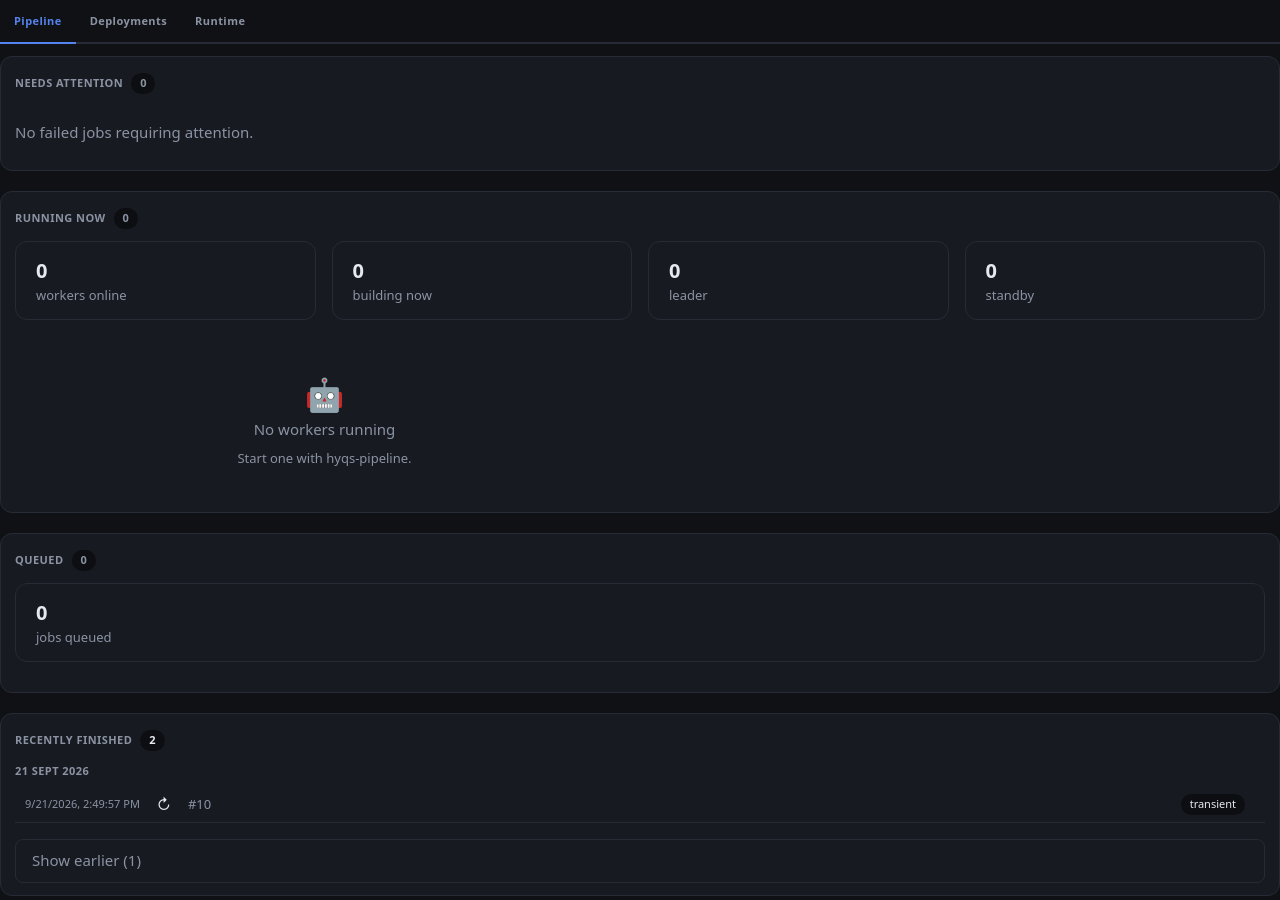
Scenario: AdminCommandCenter remediation feed coalescing + windowing › hides events older than 24h by default, revealing them via Show earlier
This screenshot has width=1280, height=900.
Expected: the text "#10" is shown, top-left (188, 794), bottom-right (211, 814)
Expected: the text "#11" is not shown
What coordinates should you click on to do the following:
click the button "Show earlier (1)"
I would click on:
 (86, 860)
Its box is top-left (15, 838), bottom-right (1265, 882).
(page scrolled)
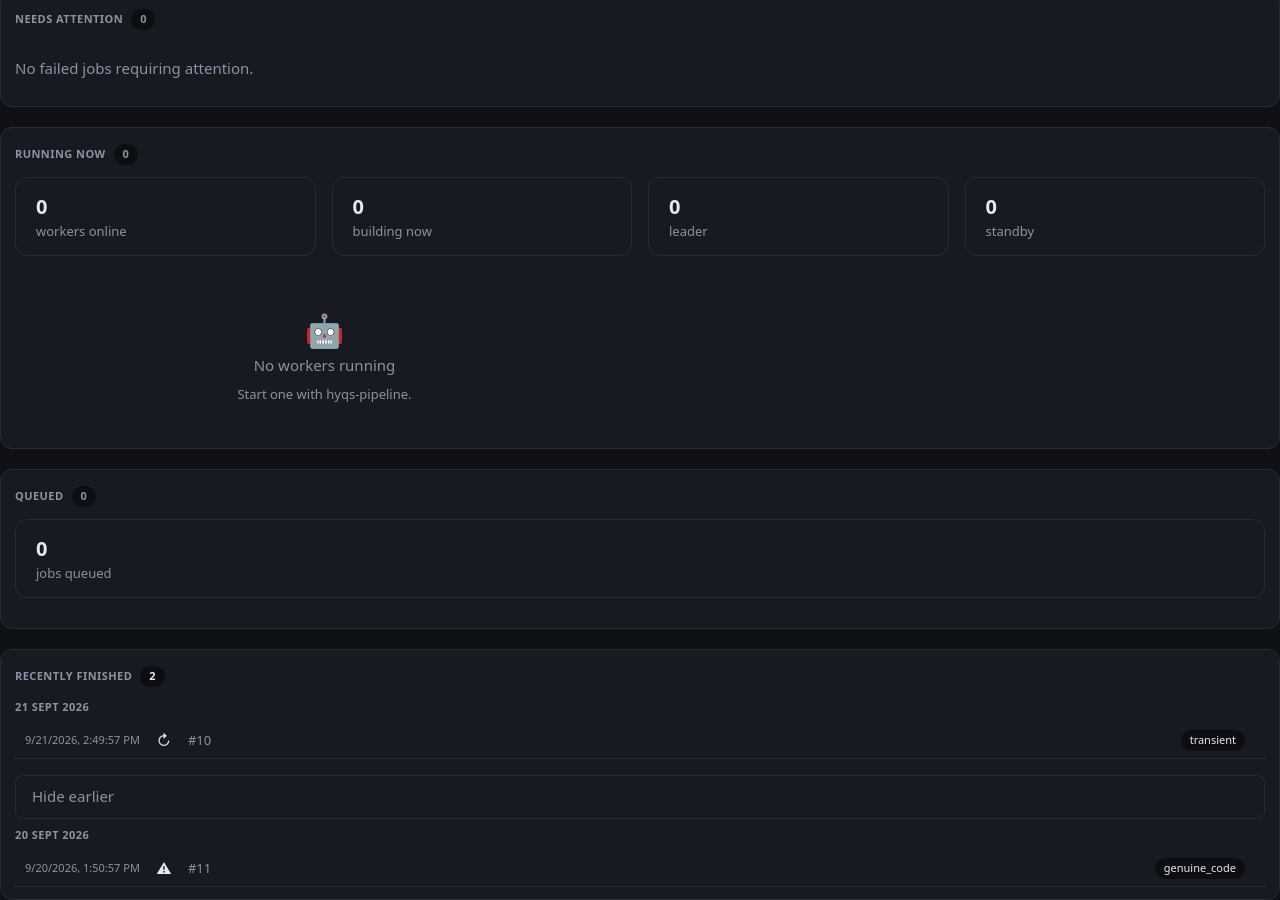
Expected: the text "#11" is shown, top-left (188, 858), bottom-right (211, 878)
